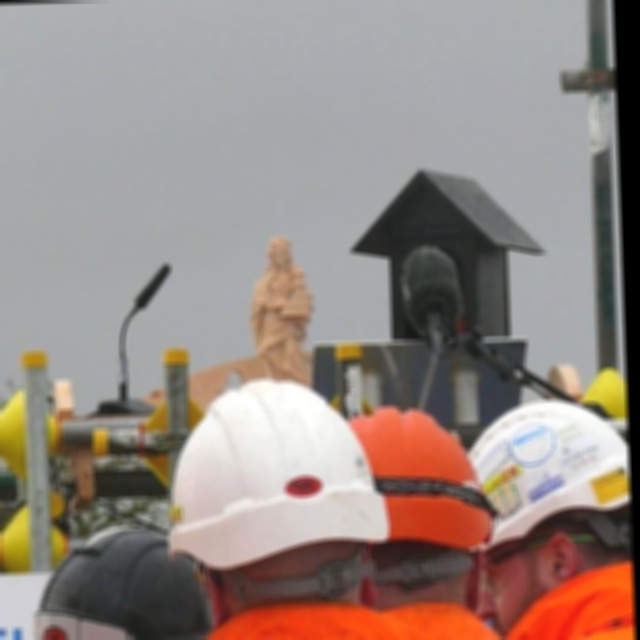Con_Casco: (163, 375, 376, 574), (469, 399, 630, 614), (340, 402, 482, 609)
